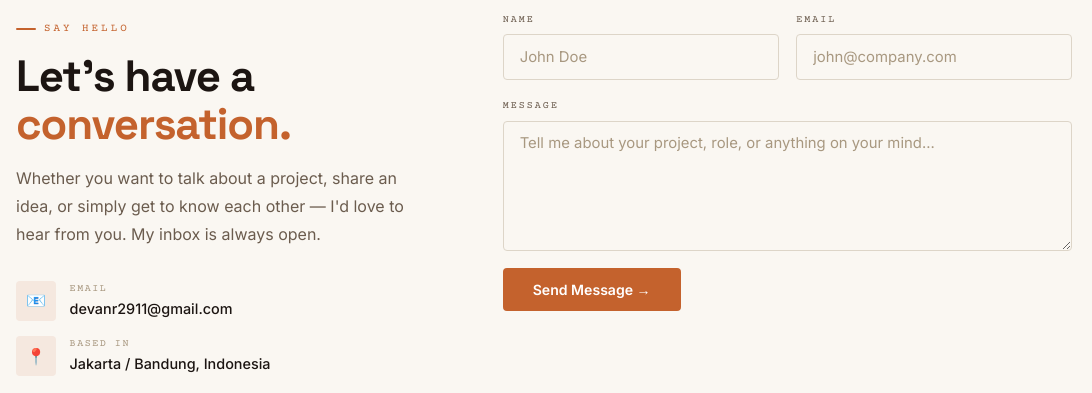
Test: ContactSection › shows an error and keeps the form filled when the request fails
This screenshot has width=1092, height=393.
In the field labelled "Name": (641, 57) [503,34,779,80], type "Jane Doe"
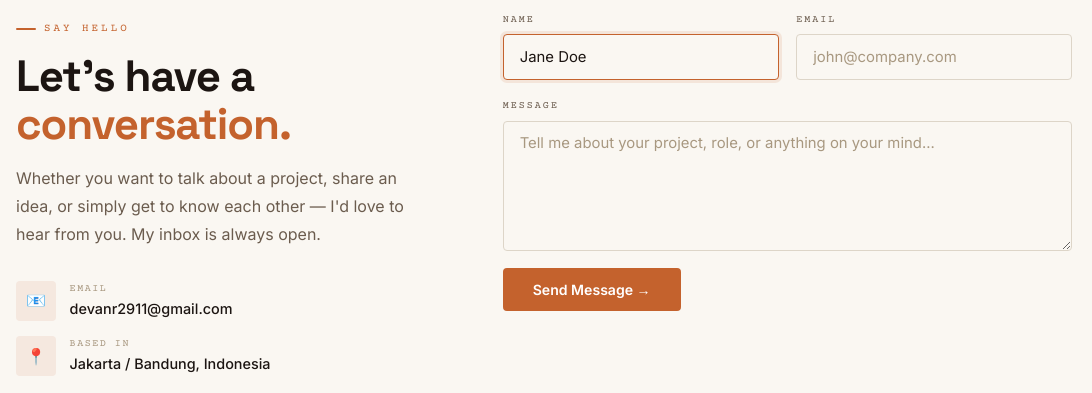
In the field labelled "Email": (934, 57) [796,34,1072,80], type "jane@example.com"
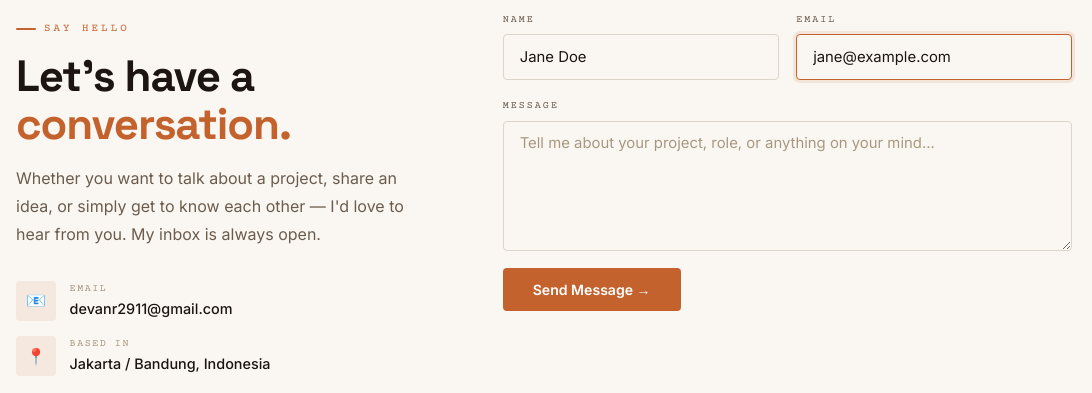
In the text box labelled "Message": (787, 186) [503,121,1072,251], type "Hello there"
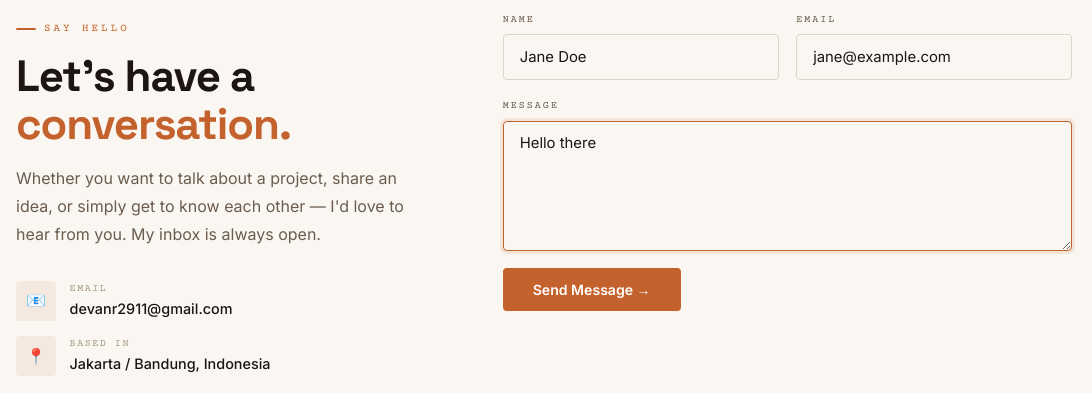
Click the button "Send Message →": (592, 290) [503,268,681,311]
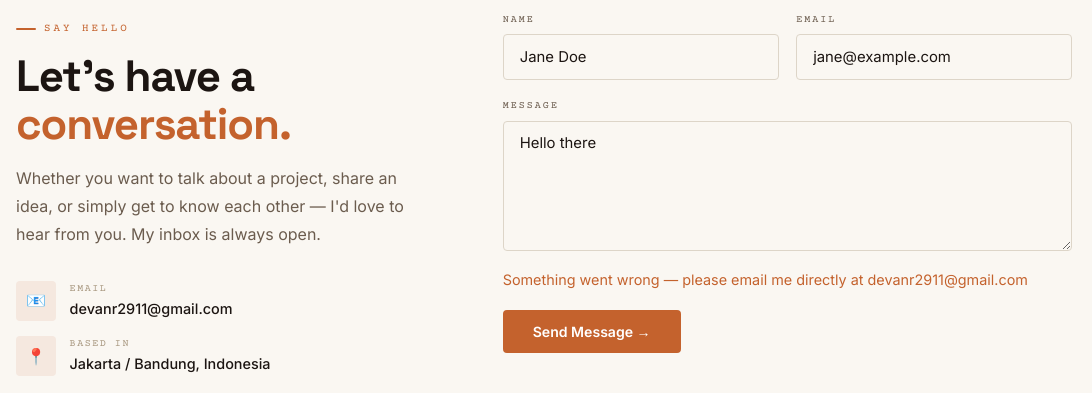
Now the text "Something went wrong" is shown, box [503,271,1028,288]
